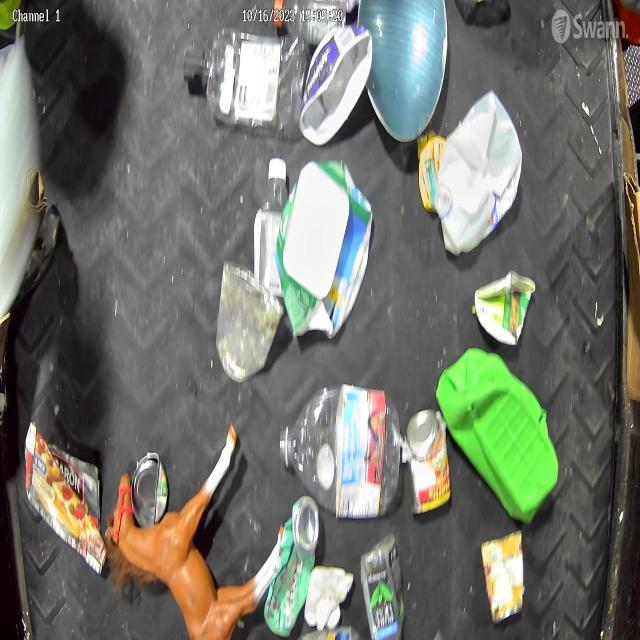can: (264, 491, 320, 638), (404, 406, 452, 514), (480, 532, 524, 626), (130, 450, 168, 530)
milk_jug: (436, 91, 524, 257)
non_white_jug: (435, 348, 560, 528)
plastic_bottle: (278, 384, 403, 520), (182, 29, 308, 133), (254, 156, 292, 302)
